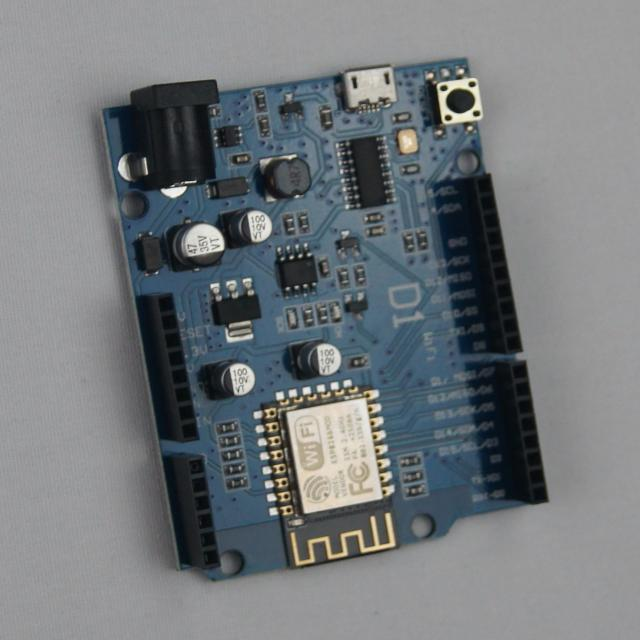Arduino Uno WiFi Shield: (105, 59, 548, 580)
